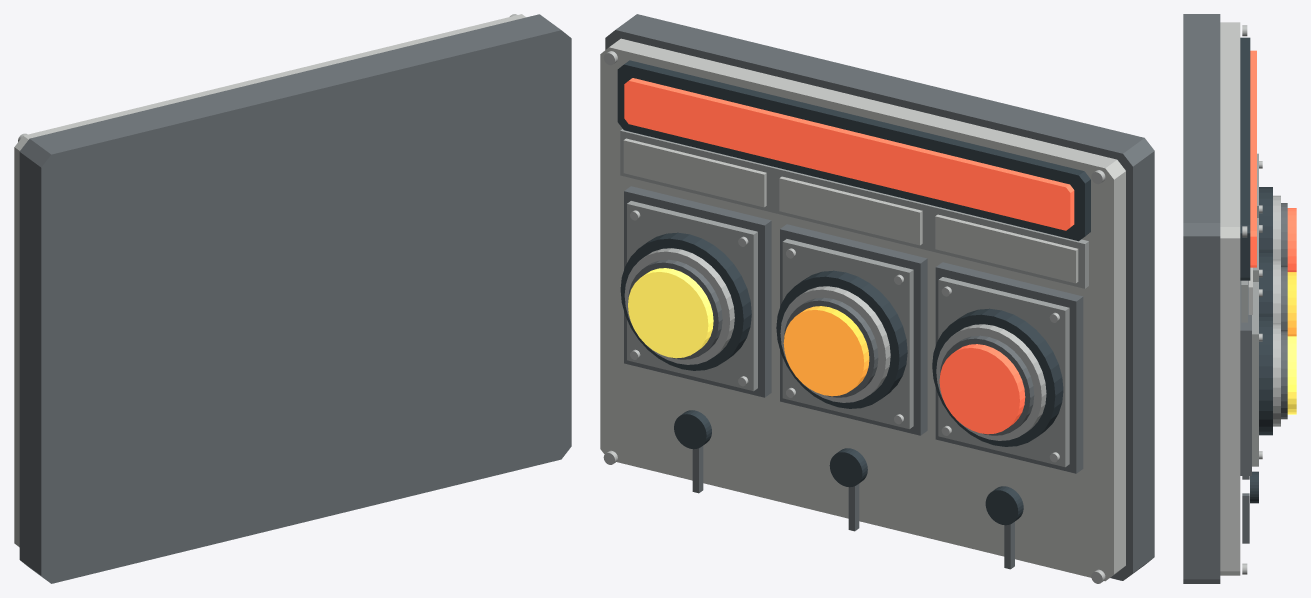
The model's file is UC_SEVIYELI_ALARM_PANELI_02_ADAY.glb.
3 renders of one model, left to right at view 1: azimuth 30°, elevation 25°; view 2: azimuth 150°, elevation 25°; view 3: azimuth 270°, elevation 25°, orthographic. The views are drawn at different scales.
Parts seen in each view (by area): view 1: Alarm_panel_rear_bracket, Alarm_panel_front_plate; view 2: Alarm_panel_front_plate, Alarm_panel_rear_bracket, Upper_alarm_header_lens, Upper_alarm_header_bezel, Lamp_2_plate, Lamp_1_plate, Lamp_0_plate, Label_rail, Lamp_0_yellow_lens, Lamp_1_amber_lens, Lamp_2_red_lens, Lamp_2_engraved_mount (+17 smaller); view 3: Alarm_panel_rear_bracket, Alarm_panel_front_plate, Upper_alarm_header_bezel, Lamp_0_engraved_mount, Lamp_0_rear_collar, Upper_alarm_header_lens, Lamp_0_plate, Lamp_1_rear_collar, Lamp_2_rear_collar, Lamp_0_metal_ring, Lamp_0_yellow_lens, Lamp_1_amber_lens (+11 smaller).
Part boxes in pixels (bbox=[...]): Alarm_panel_rear_bracket: bbox=[19, 14, 571, 583]; Alarm_panel_front_plate: bbox=[14, 14, 525, 547]; Alarm_panel_front_plate: bbox=[600, 38, 1125, 581]; Alarm_panel_rear_bracket: bbox=[605, 14, 1154, 580]; Upper_alarm_header_lens: bbox=[624, 78, 1074, 230]; Upper_alarm_header_bezel: bbox=[617, 60, 1090, 241]; Lamp_2_plate: bbox=[938, 277, 1069, 467]; Lamp_1_plate: bbox=[782, 239, 913, 429]; Lamp_0_plate: bbox=[627, 201, 757, 391]; Label_rail: bbox=[620, 129, 1088, 288]; Lamp_0_yellow_lens: bbox=[628, 268, 713, 358]; Lamp_1_amber_lens: bbox=[783, 306, 869, 396]; Lamp_2_red_lens: bbox=[939, 344, 1025, 434]; Lamp_2_engraved_mount: bbox=[935, 262, 1083, 473]; Alarm_panel_rear_bracket: bbox=[1183, 14, 1220, 583]; Alarm_panel_front_plate: bbox=[1220, 22, 1240, 575]; Upper_alarm_header_bezel: bbox=[1240, 37, 1250, 280]; Lamp_0_engraved_mount: bbox=[1240, 280, 1251, 475]; Lamp_0_rear_collar: bbox=[1259, 315, 1272, 435]; Upper_alarm_header_lens: bbox=[1250, 50, 1256, 267]; Lamp_0_plate: bbox=[1252, 282, 1258, 466]; Lamp_1_rear_collar: bbox=[1259, 251, 1272, 315]; Lamp_2_rear_collar: bbox=[1259, 187, 1272, 251]; Lamp_0_metal_ring: bbox=[1273, 324, 1280, 426]; Lamp_0_yellow_lens: bbox=[1287, 336, 1296, 414]; Lamp_1_amber_lens: bbox=[1287, 272, 1296, 336].
Bounding box in the file's own units: 4.2 × 3.25 × 0.9225.
